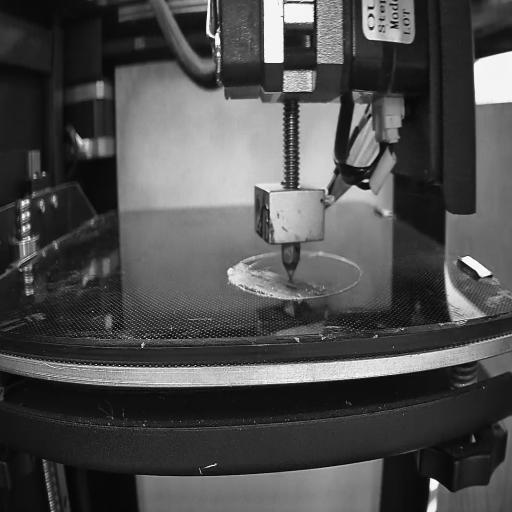under_extrusion: (284, 285, 325, 303), (239, 280, 275, 300), (240, 252, 266, 270)
